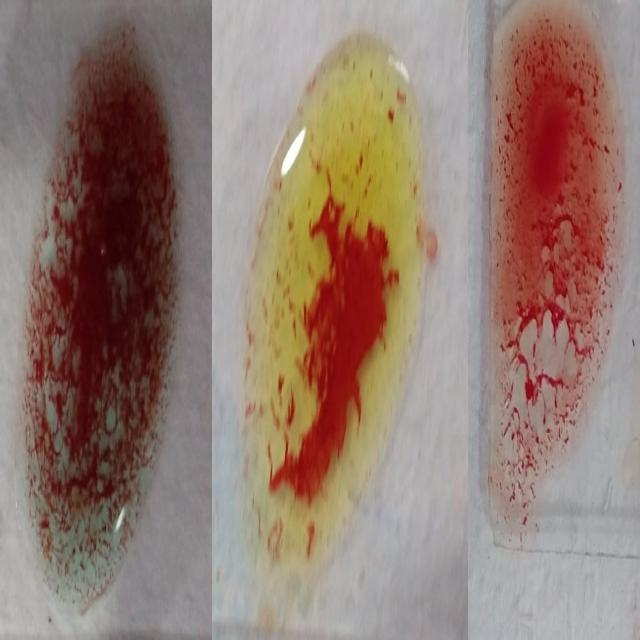A: (28, 21, 179, 602)
B: (249, 30, 421, 593)
D: (491, 9, 624, 536)
